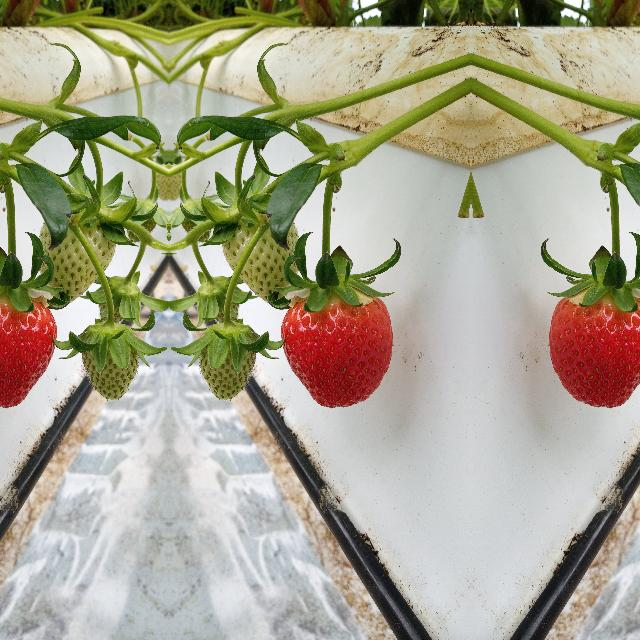Health_100: (279, 288, 393, 408), (548, 288, 640, 408), (0, 288, 57, 408)
Health_25: (222, 195, 298, 301), (38, 195, 114, 301), (196, 312, 258, 408), (78, 312, 140, 408)
